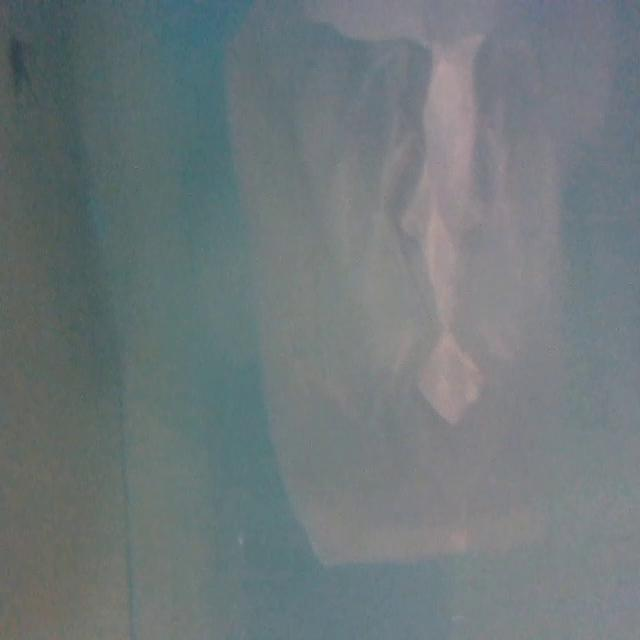plastic bags: (236, 0, 609, 579)
